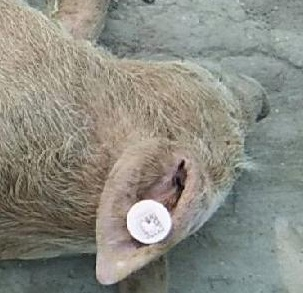text: (119, 191, 185, 255)
